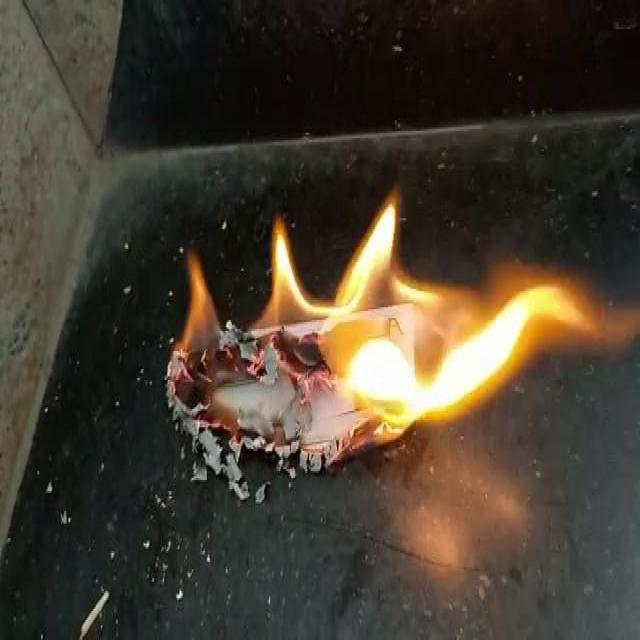fire: (169, 198, 640, 441)
